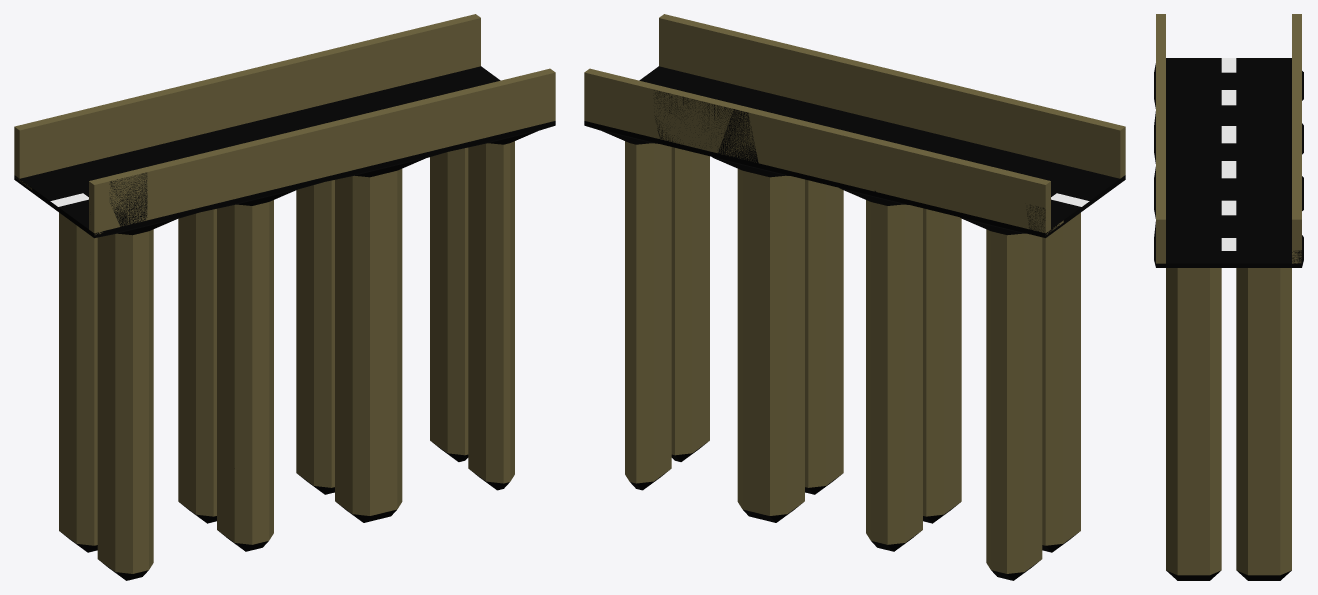
Rendered from Bridge C.F(1).fbx.
The picture shows the model from 3 angles, left to right: view 1: azimuth 30°, elevation 25°; view 2: azimuth 150°, elevation 25°; view 3: azimuth 270°, elevation 25°; orthographic projection. The views are drawn at different scales.
Parts seen in each view (by area): view 1: road, road_cell.043, road_cell.020, road_cell.014, road_cell.076, road_cell.094, road_cell.056, road_cell.038, road_cell.070, road_cell.036, road_cell.016, road_cell.034 (+16 smaller); view 2: road, road_cell.022, road_cell.068, road_cell.013, road_cell.094, road_cell.076, road_cell.088, road_cell.014, road_cell.051, road_cell.028, road_cell.041, road_cell.070 (+11 smaller); view 3: road, road_cell.006, road_cell.094, road_cell.052, road_cell.041, road_cell.053, road_cell.038, road_cell.068, road_cell.073, road_cell.020, road_cell.097, road_cell.065 (+6 smaller).
Part boxes in pixels (x1,y1,x2,y2): road: (14, 22, 555, 580); road_cell.043: (98, 234, 123, 403); road_cell.020: (413, 26, 491, 81); road_cell.014: (218, 364, 236, 544); road_cell.076: (59, 360, 74, 540); road_cell.094: (468, 296, 485, 479); road_cell.056: (65, 112, 123, 174); road_cell.038: (326, 31, 416, 109); road_cell.070: (337, 336, 352, 512); road_cell.036: (76, 92, 168, 134); road_cell.016: (228, 57, 311, 104); road_cell.034: (153, 146, 249, 188); road: (584, 14, 1125, 577); road_cell.022: (737, 332, 795, 522); road_cell.068: (715, 105, 797, 347); road_cell.013: (866, 370, 917, 551); road_cell.094: (671, 266, 709, 461); road_cell.076: (999, 394, 1040, 580); road_cell.088: (866, 191, 896, 384); road_cell.014: (923, 341, 959, 518); road_cell.051: (1042, 363, 1080, 552); road_cell.028: (986, 229, 1018, 402); road_cell.041: (625, 305, 662, 481); road_cell.070: (805, 305, 843, 494); road: (1154, 14, 1303, 580); road_cell.006: (1236, 240, 1273, 420); road_cell.094: (1177, 415, 1221, 580); road_cell.052: (1177, 268, 1221, 419); road_cell.041: (1264, 416, 1291, 577); road_cell.053: (1177, 511, 1203, 580); road_cell.038: (1264, 153, 1301, 229); road_cell.068: (1255, 145, 1303, 209); road_cell.073: (1247, 135, 1291, 152); road_cell.020: (1272, 189, 1303, 267); road_cell.097: (1247, 111, 1274, 136); road_cell.065: (1248, 421, 1264, 569).
Bounding box in the file's own units: 2000 × 1720 × 616.
